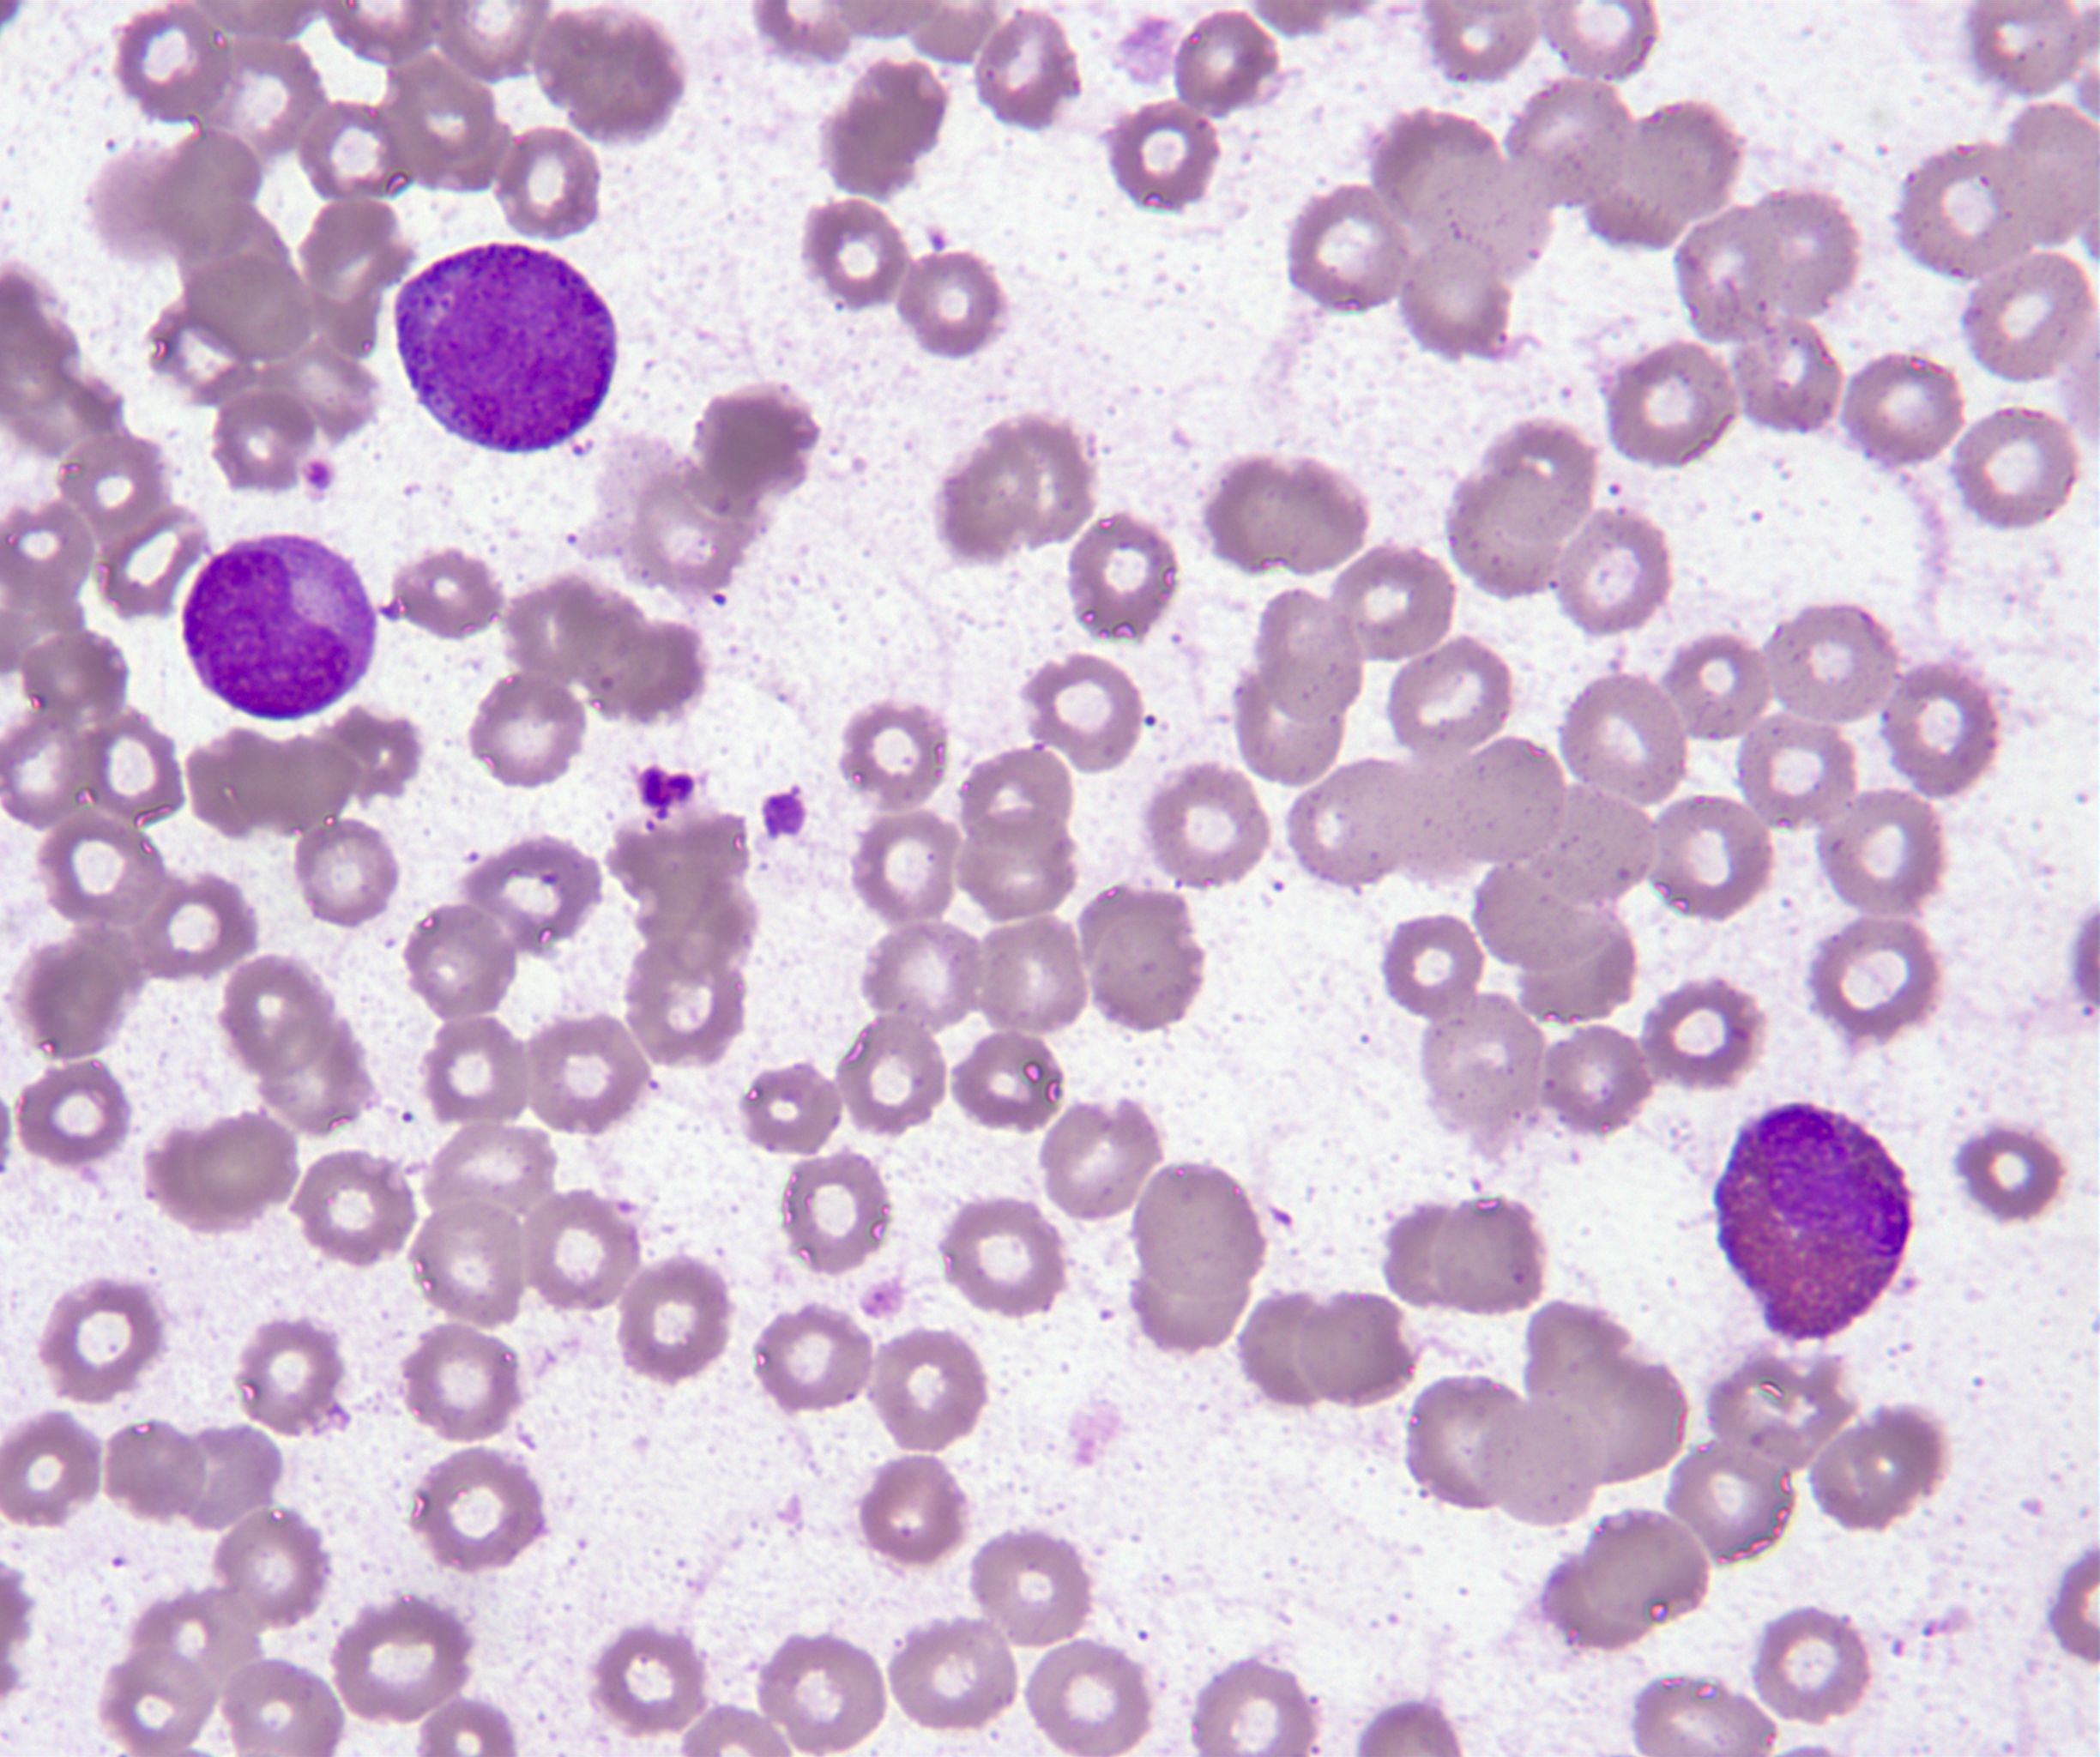2: (396, 244, 616, 454)
42: (183, 536, 377, 722)
E3: (1713, 1108, 1910, 1338)
